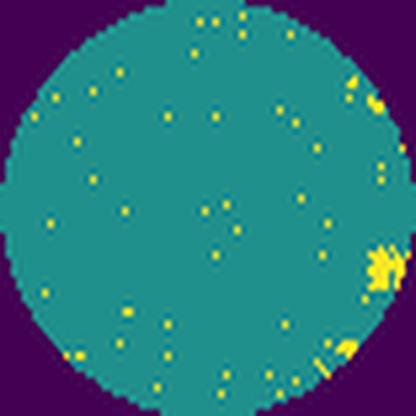Loc: (366, 241, 408, 293), (337, 334, 358, 356)
